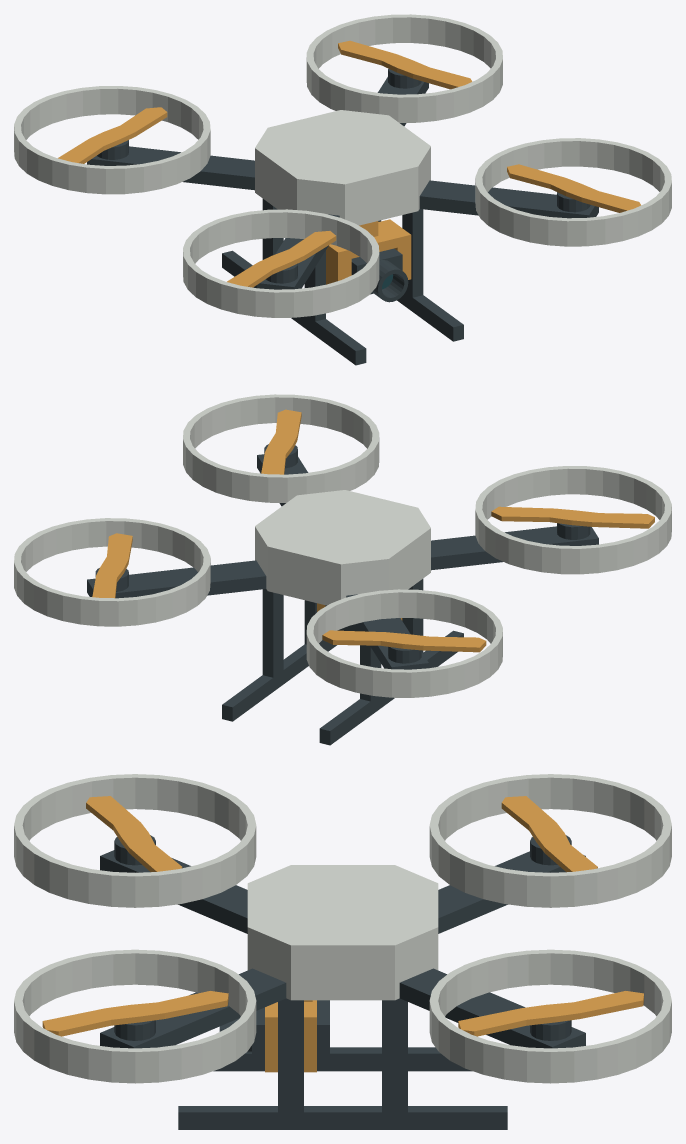
The picture shows the model from 3 angles, top to bottom: view 1: azimuth 30°, elevation 25°; view 2: azimuth 150°, elevation 25°; view 3: azimuth 270°, elevation 25°; orthographic projection. The views are drawn at different scales.
Visible parts, largest first — view 1: WholeChamferedCentralBody, WholeOpenRotorGuard_2, WholeOpenRotorGuard_3, WholeOpenRotorGuard_1, WholeOpenRotorGuard_4, WholeDiagonalArm_2, LeftWholeSkidAndTwoPosts, RightWholeSkidAndTwoPosts, WholeDiagonalArm_3, WholeFixedTwoLobedPropeller_2, WholeFixedTwoLobedPropeller_4, WholeOpenBottomCameraYoke (+5 smaller); view 2: WholeChamferedCentralBody, WholeOpenRotorGuard_1, WholeOpenRotorGuard_3, WholeOpenRotorGuard_4, WholeOpenRotorGuard_2, RightWholeSkidAndTwoPosts, WholeDiagonalArm_4, LeftWholeSkidAndTwoPosts, WholeDiagonalArm_1, WholeFixedTwoLobedPropeller_3, WholeFixedTwoLobedPropeller_1, WholeFixedTwoLobedPropeller_2 (+2 smaller); view 3: WholeChamferedCentralBody, WholeOpenRotorGuard_2, WholeOpenRotorGuard_4, WholeOpenRotorGuard_1, WholeOpenRotorGuard_3, RightWholeSkidAndTwoPosts, WholeDiagonalArm_2, WholeDiagonalArm_4, WholeFixedTwoLobedPropeller_2, WholeFixedTwoLobedPropeller_4, LeftWholeSkidAndTwoPosts, WholeFixedTwoLobedPropeller_3 (+7 smaller).
Boxes of the visible parts, x1=… form: WholeChamferedCentralBody: x1=255, y1=110, x2=430, y2=225; WholeOpenRotorGuard_2: x1=475, y1=138, x2=671, y2=246; WholeOpenRotorGuard_3: x1=14, y1=86, x2=210, y2=194; WholeOpenRotorGuard_1: x1=183, y1=209, x2=379, y2=317; WholeOpenRotorGuard_4: x1=306, y1=14, x2=502, y2=122; WholeDiagonalArm_2: x1=419, y1=180, x2=598, y2=218; LeftWholeSkidAndTwoPosts: x1=222, y1=199, x2=366, y2=365; RightWholeSkidAndTwoPosts: x1=378, y1=209, x2=463, y2=341; WholeDiagonalArm_3: x1=87, y1=146, x2=254, y2=190; WholeFixedTwoLobedPropeller_2: x1=507, y1=164, x2=640, y2=212; WholeFixedTwoLobedPropeller_4: x1=338, y1=40, x2=472, y2=89; WholeOpenBottomCameraYoke: x1=326, y1=219, x2=411, y2=284; WholeChamferedCentralBody: x1=255, y1=490, x2=430, y2=605; WholeOpenRotorGuard_1: x1=475, y1=466, x2=671, y2=574; WholeOpenRotorGuard_3: x1=306, y1=589, x2=502, y2=697; WholeOpenRotorGuard_4: x1=14, y1=518, x2=210, y2=626; WholeOpenRotorGuard_2: x1=183, y1=394, x2=379, y2=502; RightWholeSkidAndTwoPosts: x1=222, y1=589, x2=336, y2=721; WholeDiagonalArm_4: x1=87, y1=560, x2=266, y2=598; LeftWholeSkidAndTwoPosts: x1=319, y1=579, x2=463, y2=745; WholeDiagonalArm_1: x1=431, y1=526, x2=598, y2=570; WholeFixedTwoLobedPropeller_3: x1=322, y1=630, x2=486, y2=652; WholeFixedTwoLobedPropeller_1: x1=491, y1=506, x2=654, y2=528; WholeFixedTwoLobedPropeller_2: x1=261, y1=409, x2=301, y2=474; WholeChamferedCentralBody: x1=247, y1=865, x2=438, y2=1000; WholeOpenRotorGuard_2: x1=14, y1=949, x2=256, y2=1083; WholeOpenRotorGuard_4: x1=429, y1=949, x2=671, y2=1083; WholeOpenRotorGuard_1: x1=14, y1=774, x2=256, y2=907; WholeOpenRotorGuard_3: x1=429, y1=774, x2=671, y2=907; RightWholeSkidAndTwoPosts: x1=178, y1=998, x2=507, y2=1129; WholeDiagonalArm_2: x1=100, y1=968, x2=286, y2=1048; WholeDiagonalArm_4: x1=399, y1=968, x2=585, y2=1048; WholeFixedTwoLobedPropeller_2: x1=42, y1=991, x2=228, y2=1036; WholeFixedTwoLobedPropeller_4: x1=458, y1=991, x2=643, y2=1036; LeftWholeSkidAndTwoPosts: x1=213, y1=1047, x2=472, y2=1071; WholeFixedTwoLobedPropeller_3: x1=501, y1=796, x2=597, y2=872.
Bounding box in the file's own units: 1.52 × 0.49 × 1.52.
